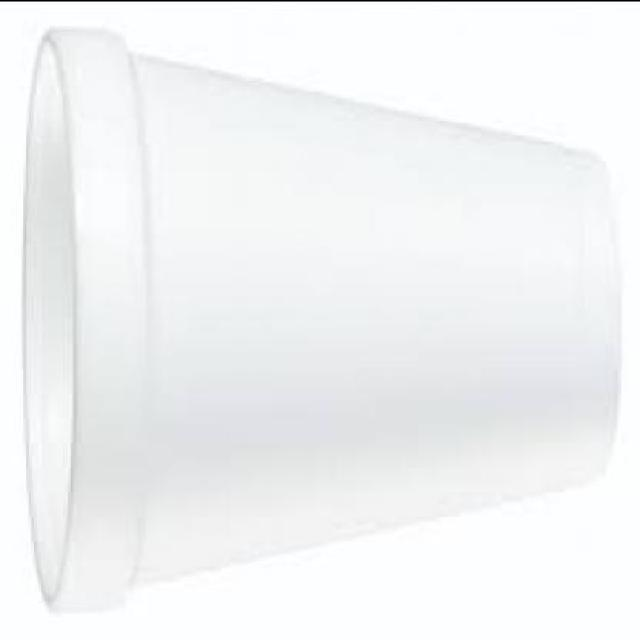PAPER: (21, 28, 622, 615)
